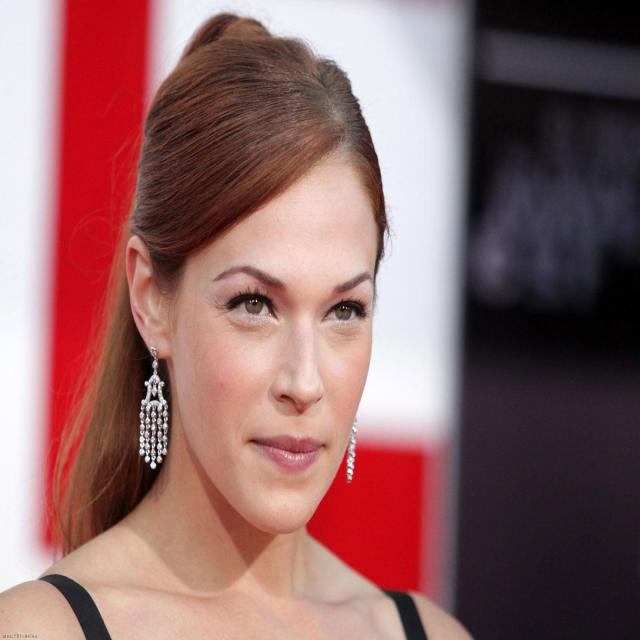no-earmuff: (111, 226, 197, 389)
